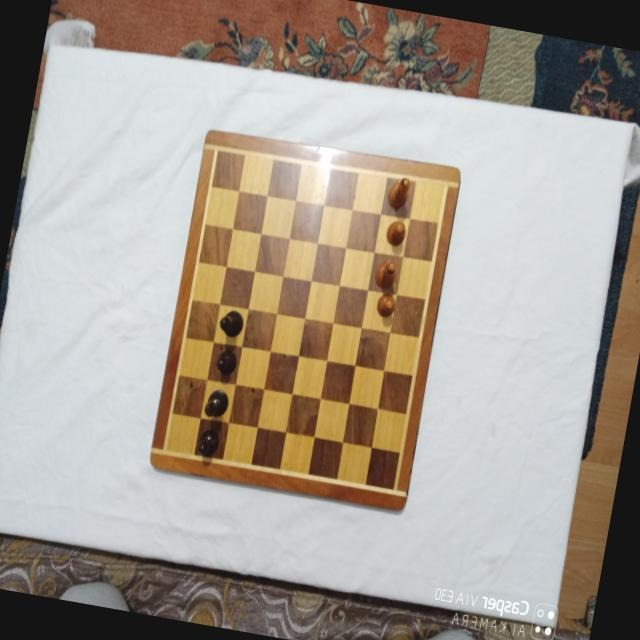black-bishop: (201, 385, 230, 419), (217, 308, 245, 338)
black-pawn: (195, 426, 221, 457), (214, 347, 238, 377)
white-bishop: (384, 174, 411, 210), (372, 257, 399, 290)
white-pawn: (384, 219, 408, 248), (375, 291, 397, 318)
